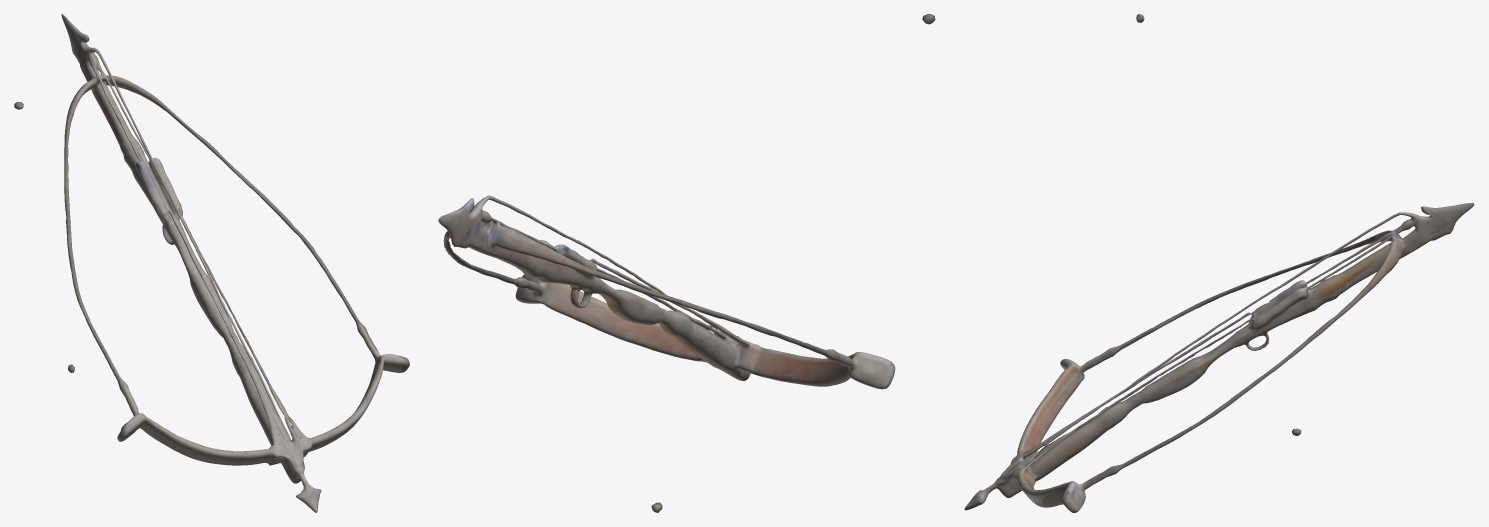
The model's file is Wood Bow.glb.
3 views of the same model, side by side, from view 1: azimuth 30°, elevation 25°; view 2: azimuth 150°, elevation 25°; view 3: azimuth 270°, elevation 25° (orthographic). The views are drawn at different scales.
Visible parts, largest first — view 1: file1; view 2: file1; view 3: file1.
Boxes of the visible parts, left/top/right/bottom form: file1: left=14, top=14, right=409, bottom=512; file1: left=438, top=14, right=935, bottom=512; file1: left=964, top=14, right=1474, bottom=512.
Bounding box in the file's own units: 1.6 × 1.7 × 2.
Materials: 1 (1 with a texture image).
